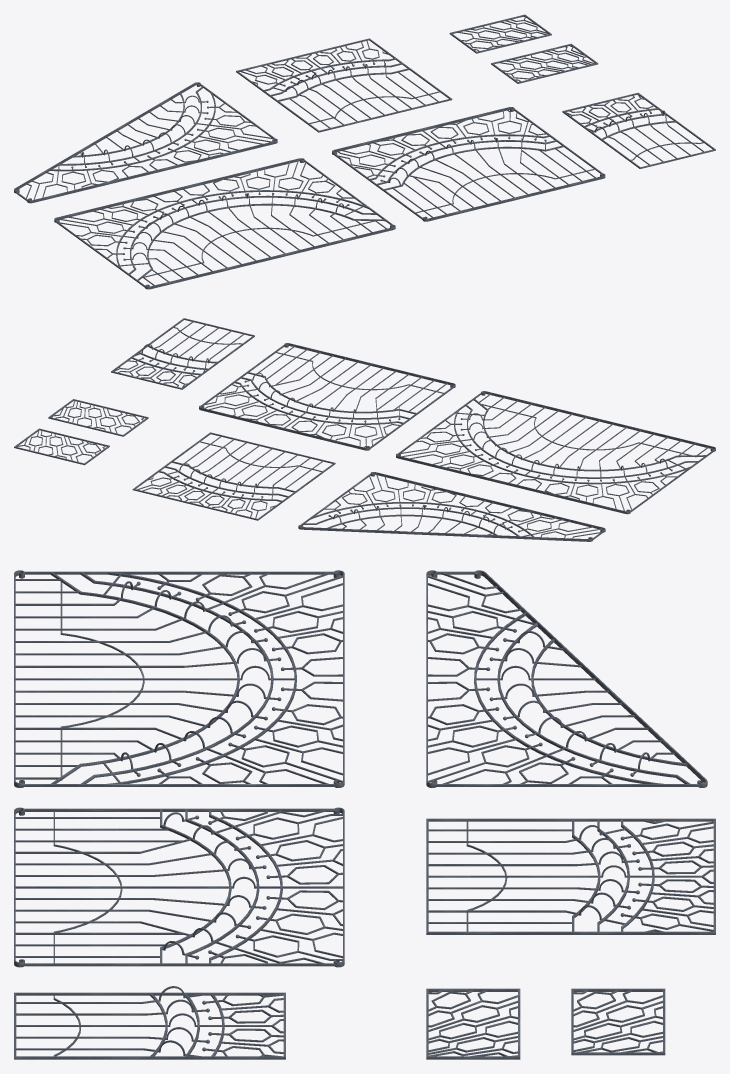
3 renders of one model, top to bottom at view 1: azimuth 30°, elevation 25°; view 2: azimuth 150°, elevation 25°; view 3: azimuth 270°, elevation 25°, orthographic. The views are drawn at different scales.
Parts seen in each view (by area): view 1: group_0 (×5), group_1 (×3), group_3 (×3), group_4, group_2, group_6, group_5; view 2: group_0 (×6), group_3 (×4), group_1 (×3), group_4, group_2, group_6, group_5; view 3: group_1 (×3), group_0 (×5), group_3 (×3), group_4, group_2, group_6, group_5.
Part boxes in pixels (left/top/right/bottom): group_0 (×5): left=54, top=158, right=395, bottom=289; group_1 (×3): left=332, top=107, right=605, bottom=221; group_3 (×3): left=14, top=82, right=277, bottom=203; group_4: left=236, top=38, right=452, bottom=132; group_2: left=562, top=92, right=715, bottom=168; group_6: left=491, top=43, right=598, bottom=83; group_5: left=449, top=14, right=551, bottom=53; group_0 (×6): left=396, top=391, right=715, bottom=514; group_3 (×4): left=298, top=472, right=605, bottom=541; group_1 (×3): left=199, top=343, right=455, bottom=450; group_4: left=132, top=432, right=335, bottom=520; group_2: left=111, top=318, right=254, bottom=389; group_6: left=48, top=399, right=148, bottom=436; group_5: left=14, top=428, right=109, bottom=465; group_1 (×3): left=15, top=808, right=342, bottom=966; group_0 (×5): left=21, top=571, right=336, bottom=786; group_3 (×3): left=434, top=570, right=707, bottom=787; group_4: left=426, top=818, right=715, bottom=934; group_2: left=14, top=992, right=285, bottom=1059; group_6: left=426, top=988, right=520, bottom=1059; group_5: left=571, top=988, right=665, bottom=1055.
Size of the model in its own units: 231 by 141 by 3.41.
2 materials, 1 textured.
